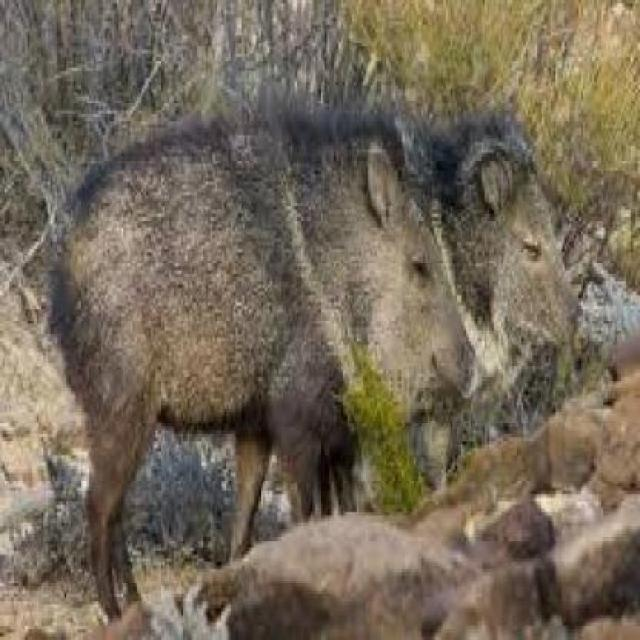wildboar: (35, 81, 489, 640), (183, 100, 589, 591)
